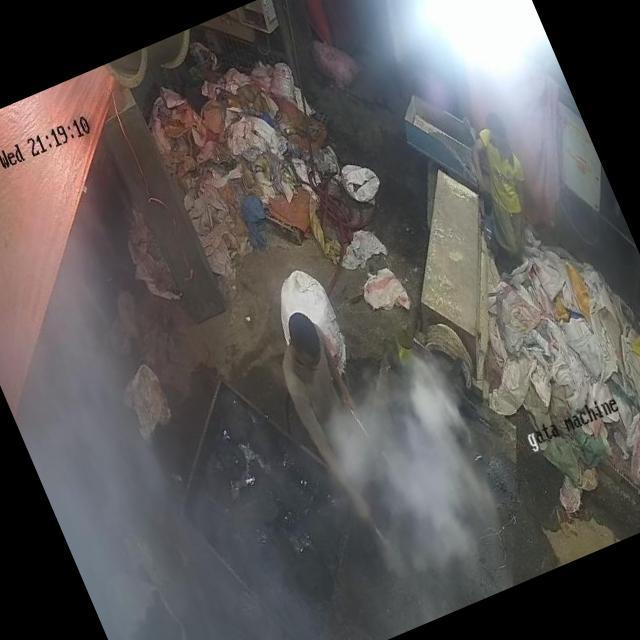person: (264, 301, 398, 513), (450, 105, 554, 258)
